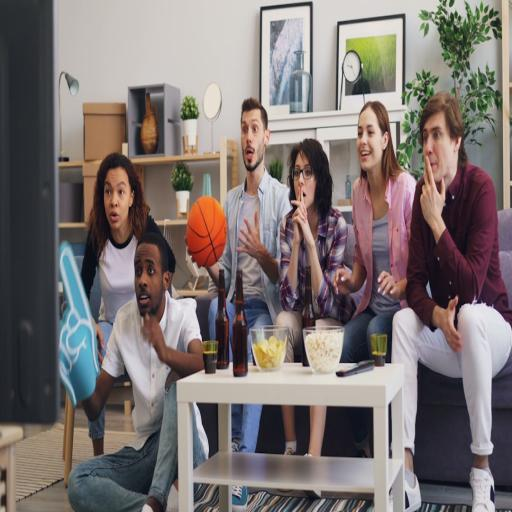face: (133, 246, 162, 316), (103, 170, 131, 227), (421, 123, 449, 180), (240, 110, 265, 171), (358, 112, 378, 167), (292, 158, 314, 206)
